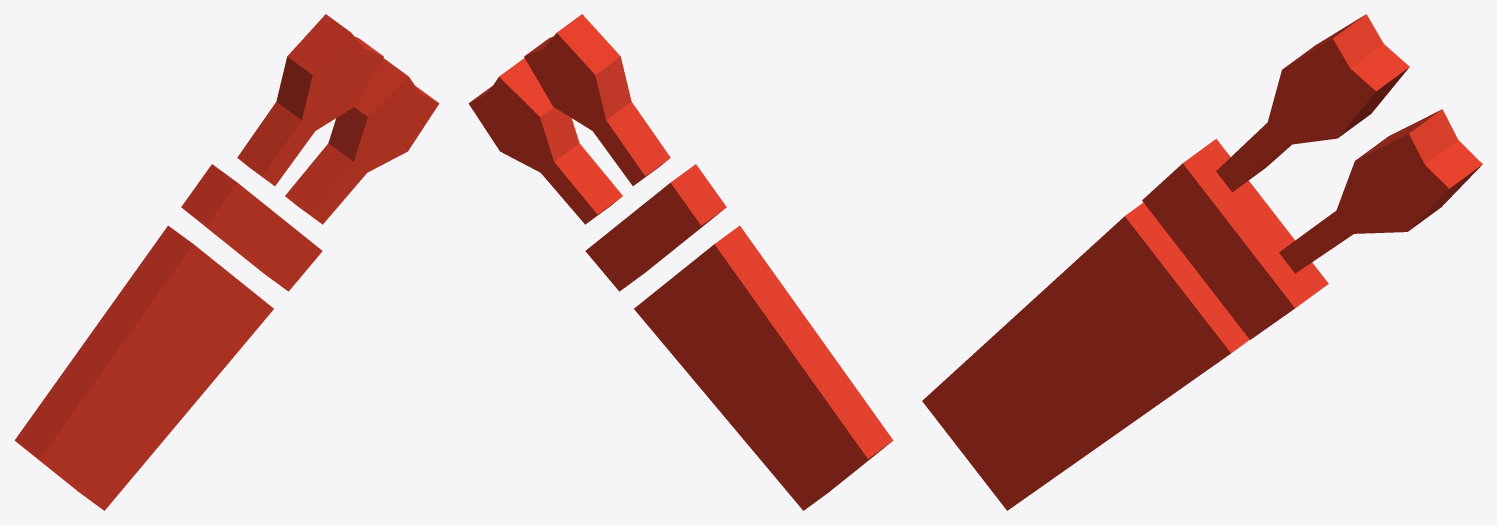
Rendered from Icon_Arrows.fbx.
The picture shows the model from 3 angles, left to right: view 1: azimuth 30°, elevation 25°; view 2: azimuth 150°, elevation 25°; view 3: azimuth 330°, elevation 25°; orthographic projection. The views are drawn at different scales.
Parts seen in each view (by area): view 1: Icon_Arrows; view 2: Icon_Arrows; view 3: Icon_Arrows.
Part boxes in pixels (x1,y1,x2,y2): Icon_Arrows: [14, 14, 439, 510]; Icon_Arrows: [468, 14, 893, 510]; Icon_Arrows: [922, 14, 1482, 510].
Size of the model in its own units: 79.04 by 79.04 by 8.73.
